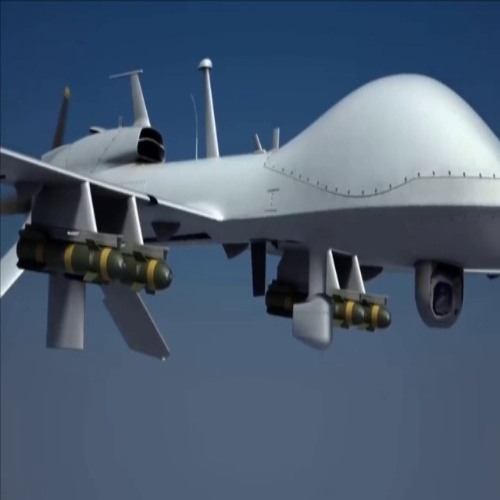uav: (4, 55, 500, 360)
